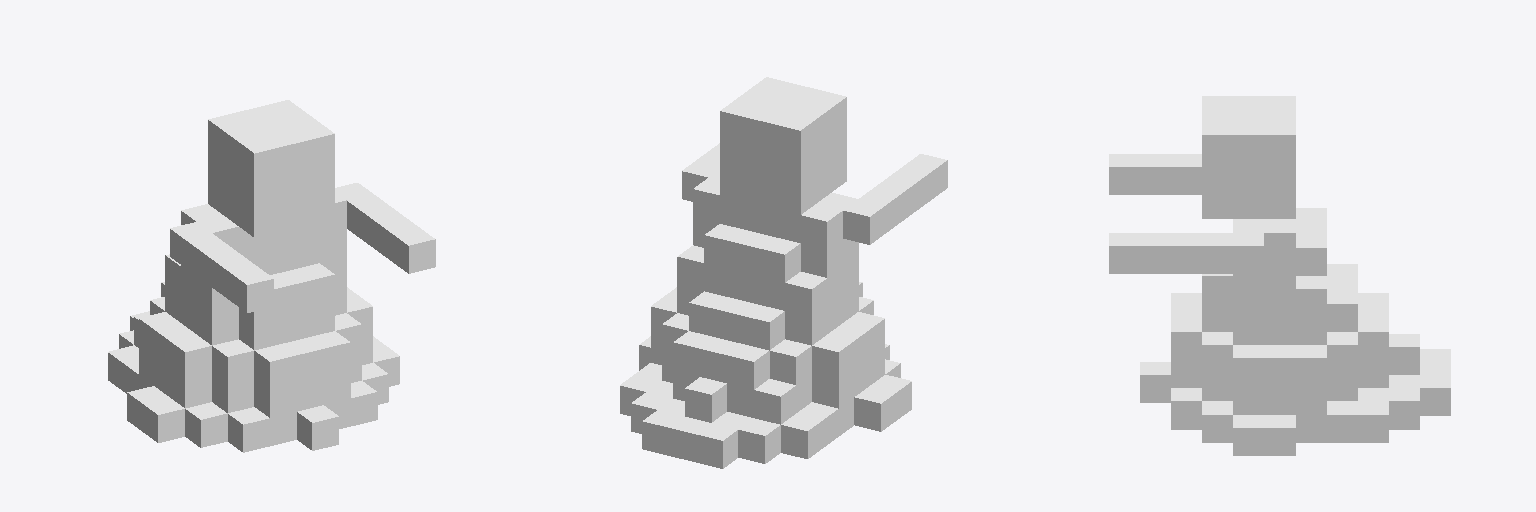
The model's file is walk_2.obj.
3 renders of one model, left to right at view 1: azimuth 30°, elevation 25°; view 2: azimuth 150°, elevation 25°; view 3: azimuth 270°, elevation 25°, orthographic.
Bounding box in the file's own units: 9 × 10 × 11.